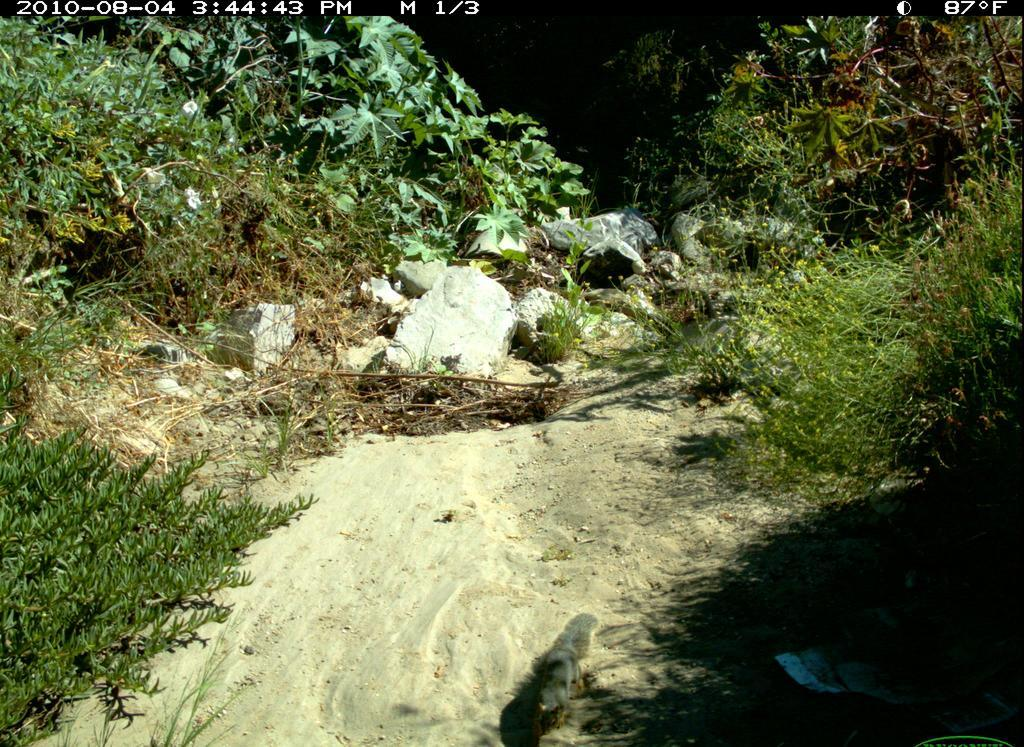squirrel: (507, 578, 626, 747)
